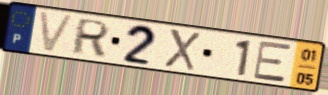1: (233, 39, 255, 77)
2: (118, 23, 161, 70)
E: (252, 41, 293, 85)
R: (68, 17, 113, 58)
V: (36, 9, 77, 55)
X: (162, 27, 202, 73)
